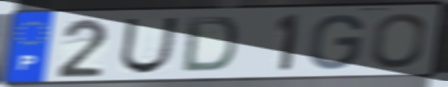1: (273, 13, 301, 74)
2: (57, 15, 112, 79)
D: (179, 15, 241, 74)
G: (306, 12, 367, 72)
O: (369, 11, 429, 70)
U: (116, 16, 181, 76)
